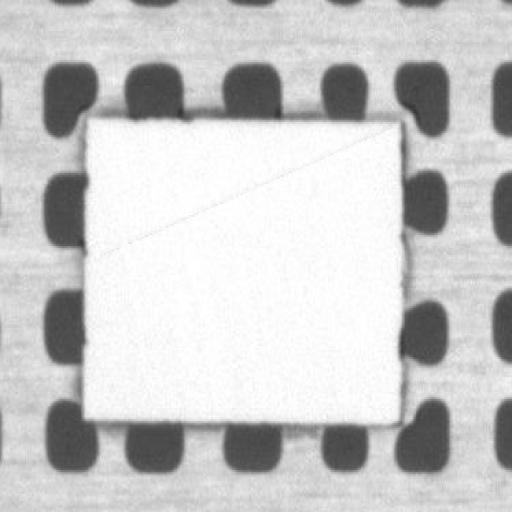DIE_CRACK: (132, 94, 512, 190)
